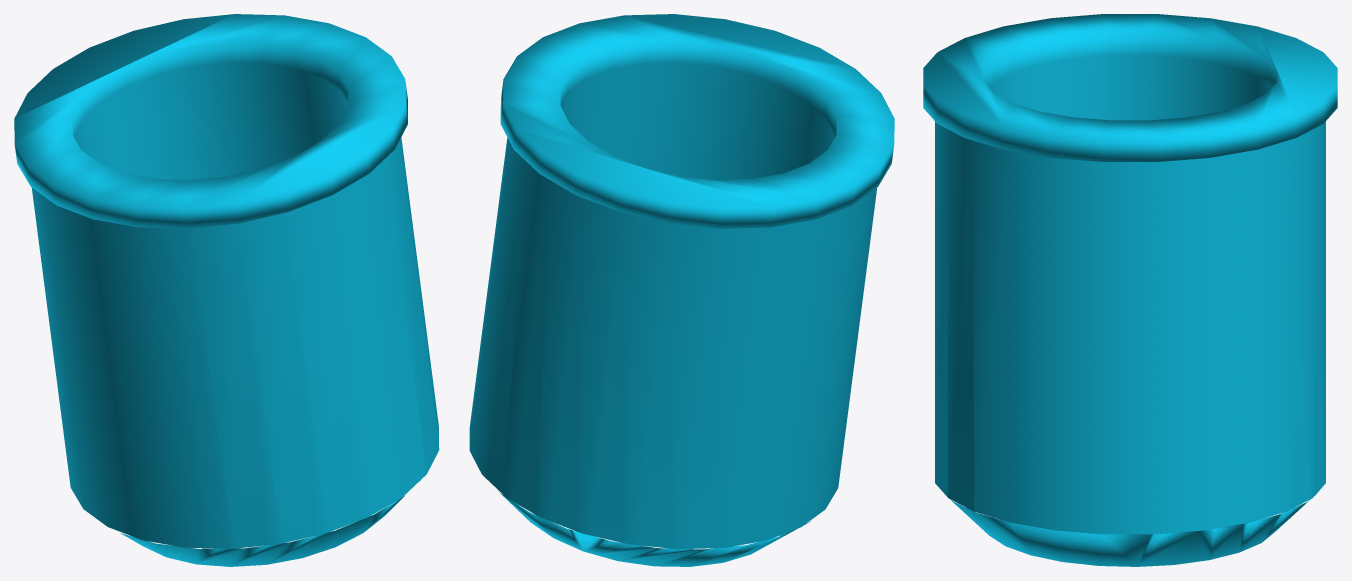
3 views of the same model, side by side, from view 1: azimuth 30°, elevation 25°; view 2: azimuth 150°, elevation 25°; view 3: azimuth 270°, elevation 25° (orthographic). The views are drawn at different scales.
Visible parts, largest first — view 1: Component#1; view 2: Component#1; view 3: Component#1.
Part boxes in pixels (bbox=[...]): Component#1: bbox=[14, 14, 439, 566]; Component#1: bbox=[469, 14, 894, 566]; Component#1: bbox=[923, 14, 1337, 566].
Size of the model in its own units: 46.15 by 51.79 by 42.06.
Materials: 1 (1 with a texture image).
